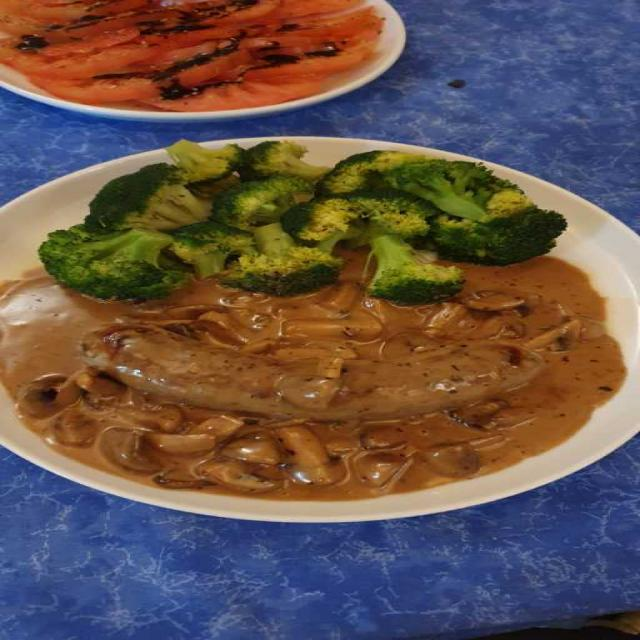broccoli: (54, 149, 563, 298)
sauce-cream: (60, 269, 583, 506)
sausage: (27, 262, 621, 496)
